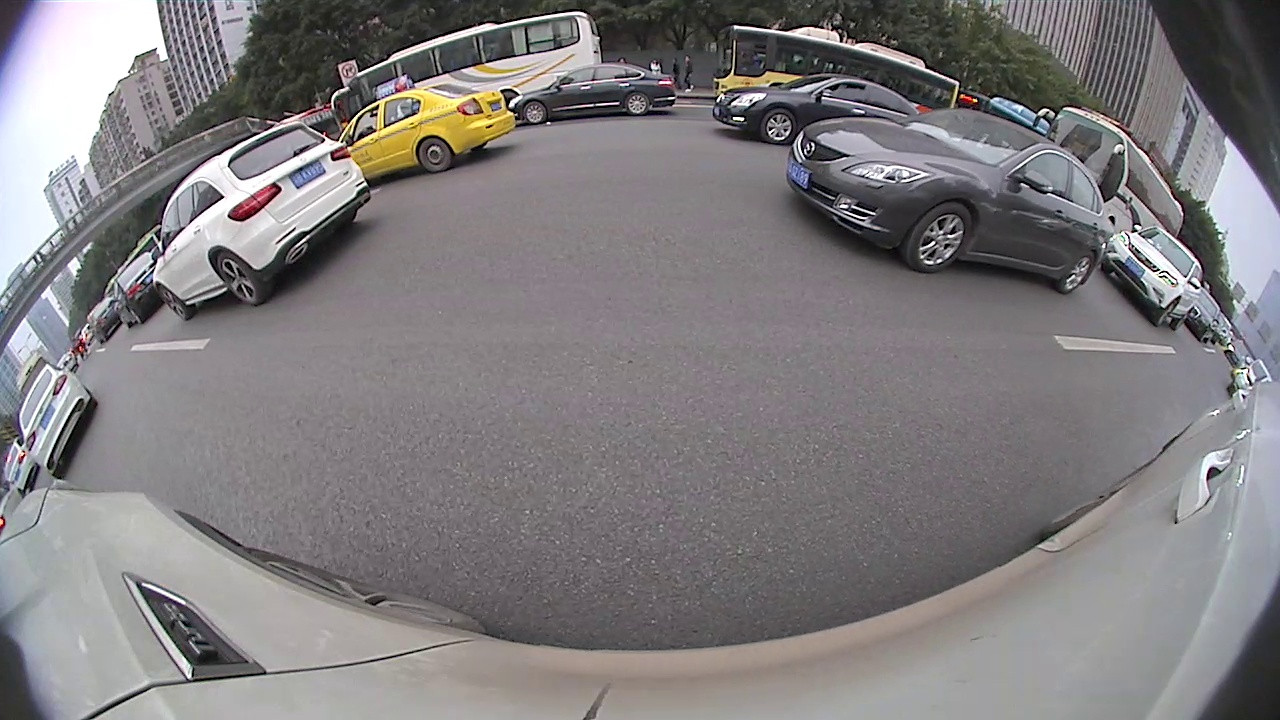bus: (331, 10, 604, 123), (711, 18, 963, 133), (1032, 107, 1189, 259)
car: (788, 108, 1114, 295), (151, 121, 372, 321), (310, 79, 516, 175), (712, 72, 925, 146), (1102, 224, 1204, 332), (508, 64, 678, 122), (17, 362, 99, 478), (113, 250, 174, 328), (0, 437, 39, 498), (84, 300, 123, 345)
front: (906, 203, 970, 275), (157, 286, 189, 319), (764, 112, 793, 142), (524, 102, 545, 124)
rear: (218, 250, 262, 304), (1057, 253, 1094, 293), (419, 137, 450, 172), (625, 93, 648, 115)
